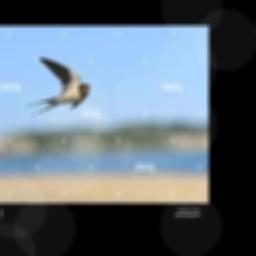Swallow: (27, 57, 89, 114)
